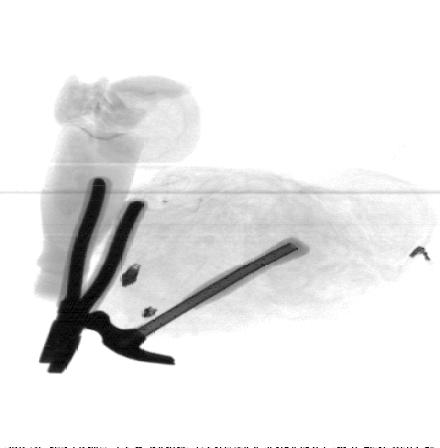Hammer: (80, 237, 311, 365)
Pliers: (39, 176, 150, 374)
